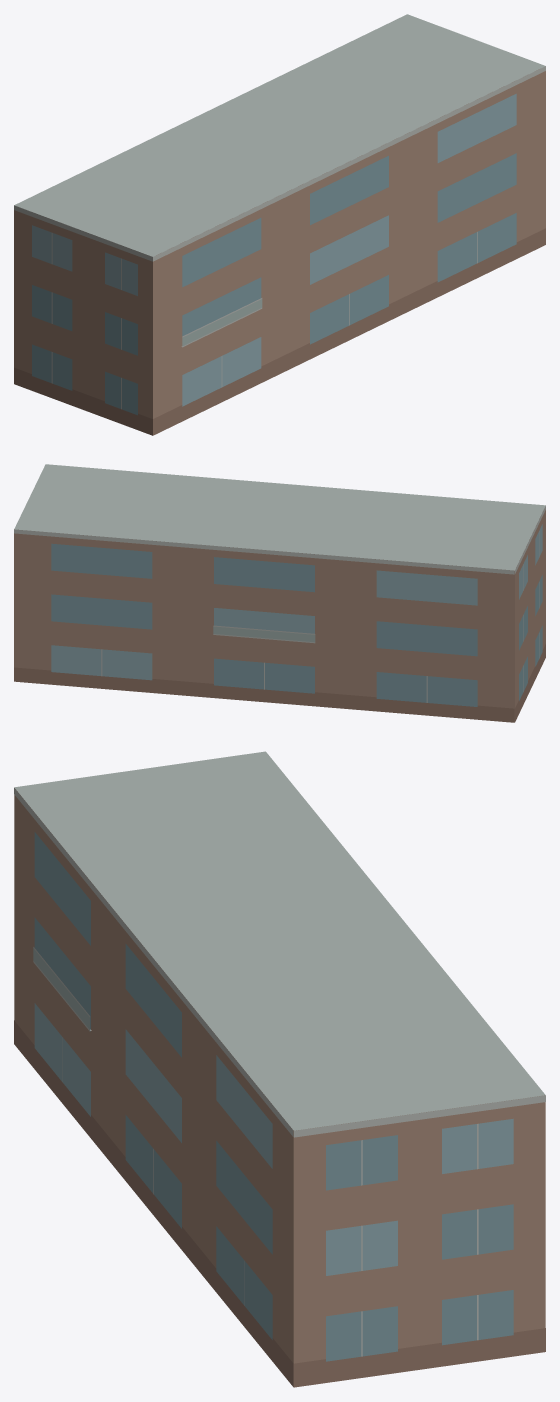
The model's file is survey-upis-32699832.glb.
The picture shows the model from 3 angles, top to bottom: view 1: azimuth 30°, elevation 25°; view 2: azimuth 150°, elevation 25°; view 3: azimuth 270°, elevation 25°; orthographic projection. The views are drawn at different scales.
Visible parts, largest first — view 1: survey-upis-32699832.tmp; view 2: survey-upis-32699832.tmp; view 3: survey-upis-32699832.tmp.
Boxes of the visible parts, x1,y1,x2,y2 form: survey-upis-32699832.tmp: [14, 14, 545, 435]; survey-upis-32699832.tmp: [14, 464, 545, 722]; survey-upis-32699832.tmp: [14, 751, 545, 1387].
Bounding box in the file's own units: 29.01 × 9.15 × 17.19.
